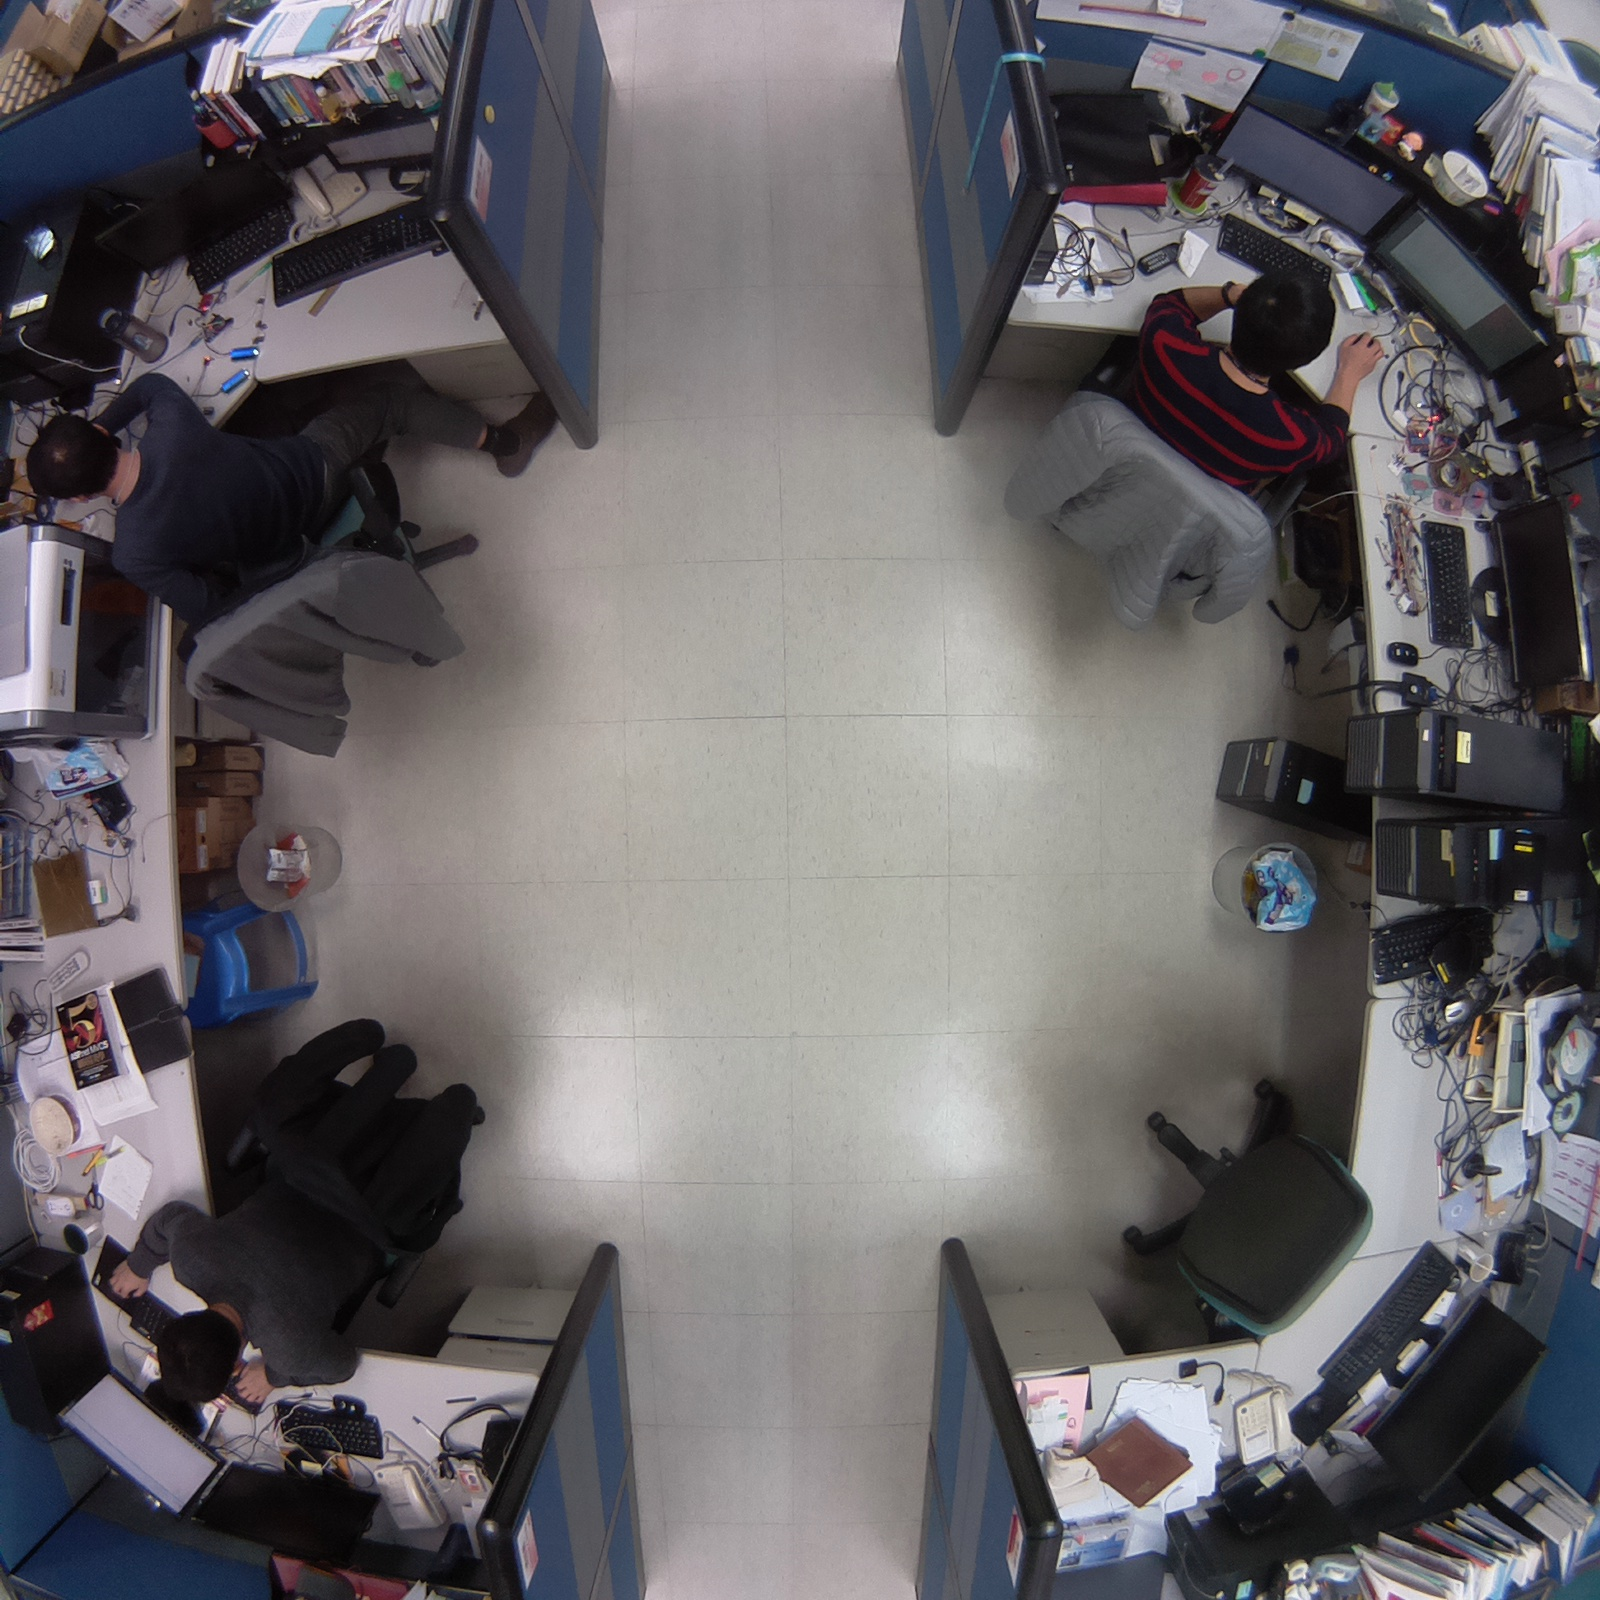chair: (1078, 1052, 1388, 1360)
head: (1223, 255, 1344, 378), (12, 404, 140, 508), (136, 1302, 246, 1414)
sitting: (23, 354, 501, 770), (101, 1001, 499, 1417), (988, 238, 1384, 647)
